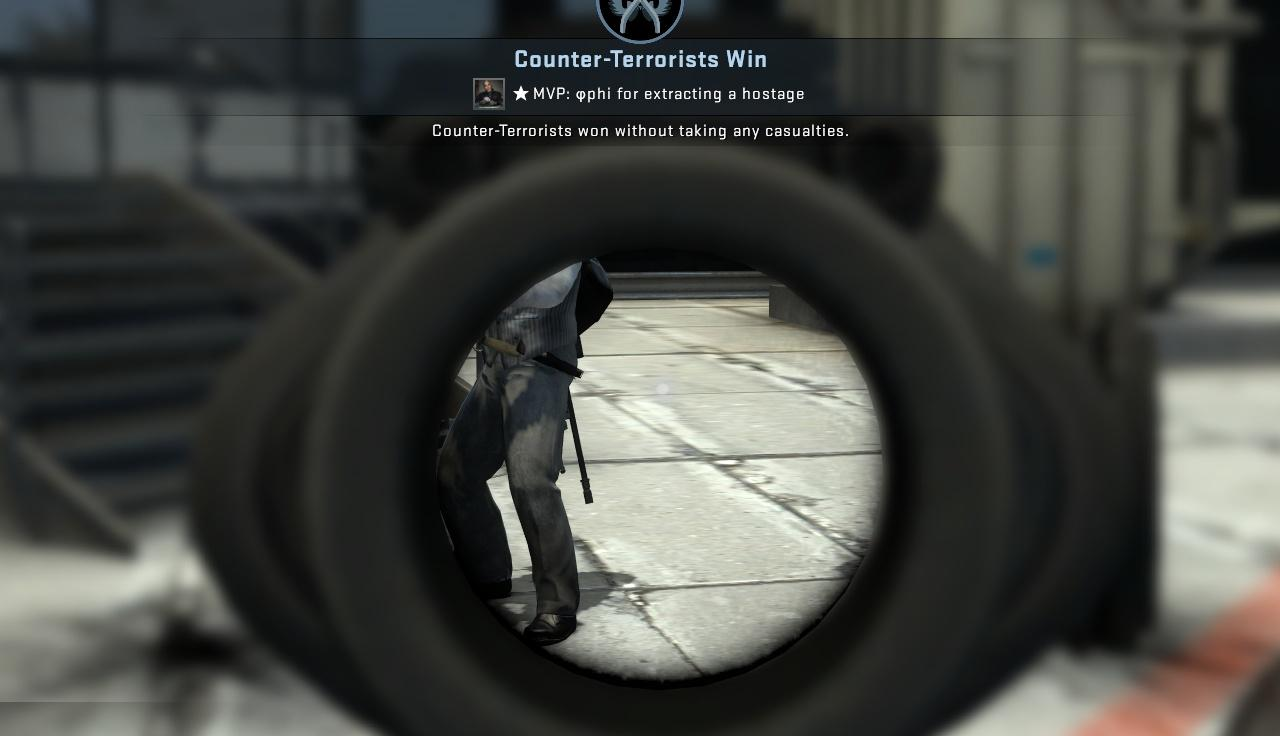tt: (459, 251, 578, 642)
